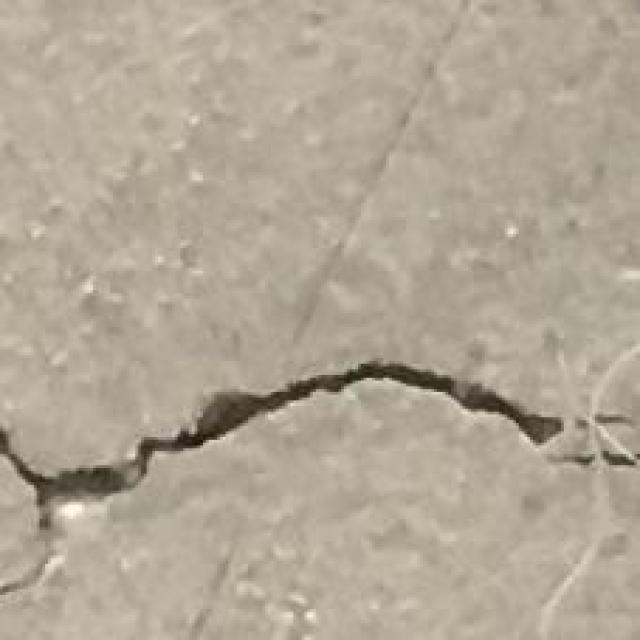branched cracks: (0, 361, 639, 595)
